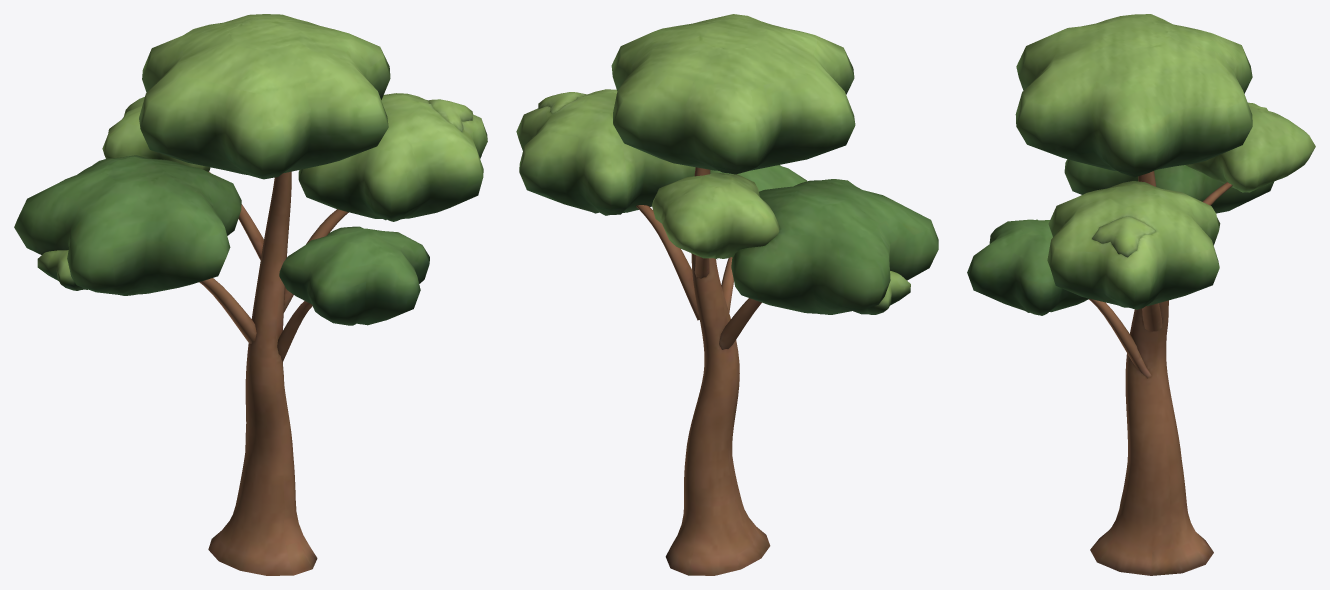
Rendered from foundation_tree.glb.
3 renders of one model, left to right at view 1: azimuth 30°, elevation 25°; view 2: azimuth 150°, elevation 25°; view 3: azimuth 270°, elevation 25°, orthographic. The views are drawn at different scales.
Visible parts, largest first — view 1: Tree; view 2: Tree; view 3: Tree.
Part boxes in pixels (x1,y1,x2,y2): Tree: (14,14,487,575); Tree: (516,14,938,575); Tree: (967,14,1315,575).
Size of the model in its own units: 2.6 by 3.1 by 1.89.
1 material, 1 textured.
